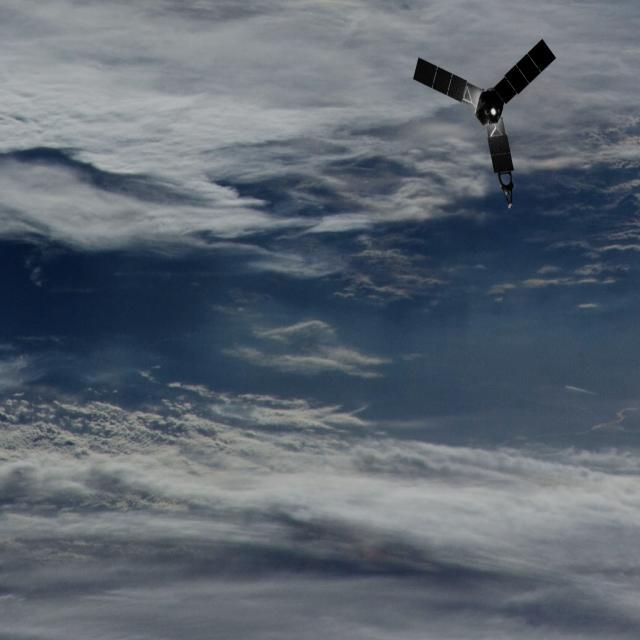satellite: (399, 16, 579, 216)
